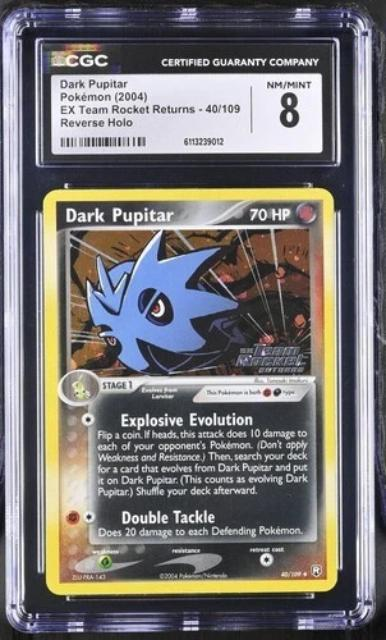Card: (39, 182, 343, 599)
Name: (58, 202, 181, 229)
